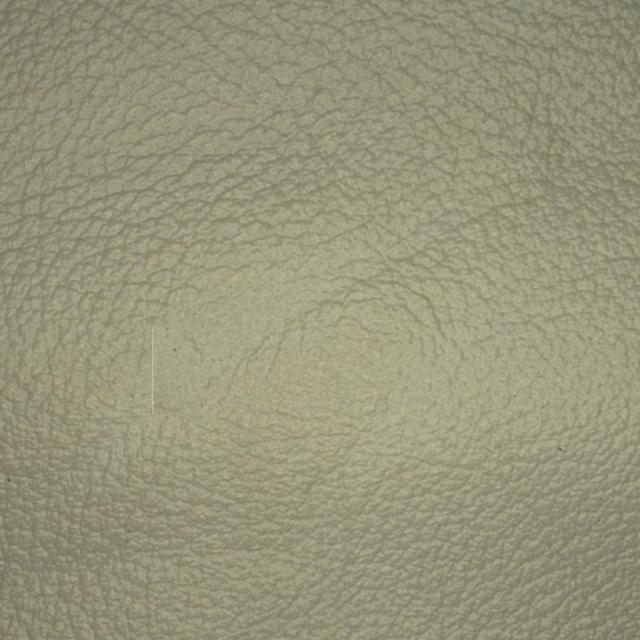Healed Injury: (50, 302, 283, 481)
